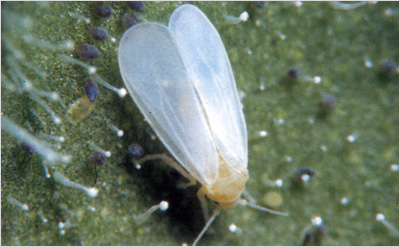whitefly: (117, 3, 287, 246)
